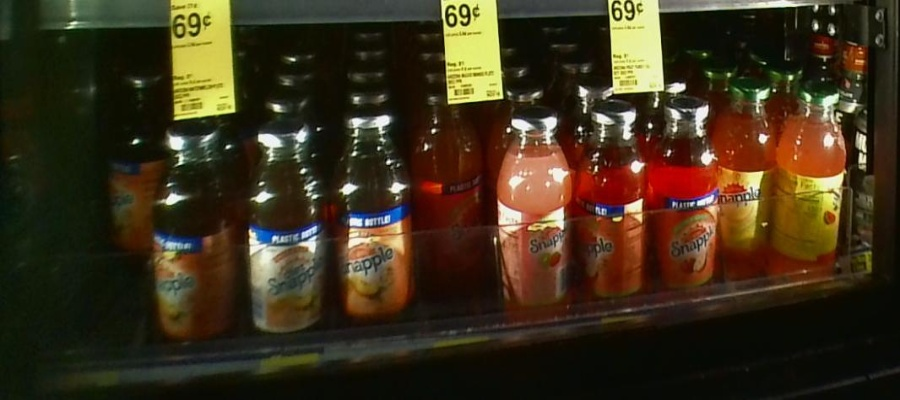bottle: (238, 110, 328, 343), (159, 107, 236, 344), (333, 107, 411, 329), (574, 100, 651, 312), (495, 109, 570, 315), (776, 75, 846, 281), (414, 82, 485, 277), (654, 90, 718, 306), (103, 40, 158, 254), (718, 72, 770, 274)
